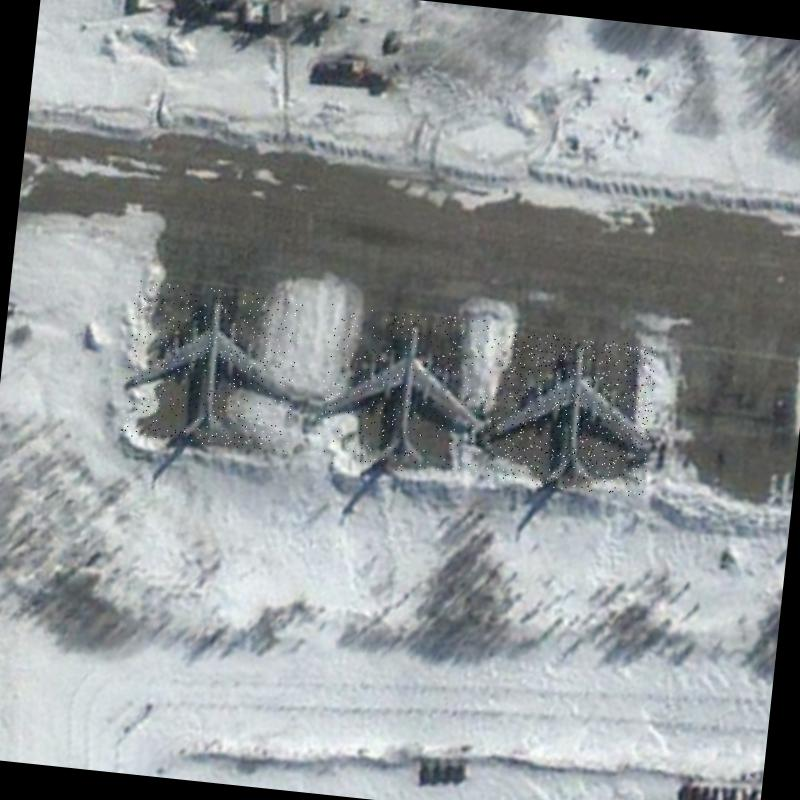A17: (314, 303, 497, 479), (119, 280, 303, 454), (483, 329, 659, 497)
